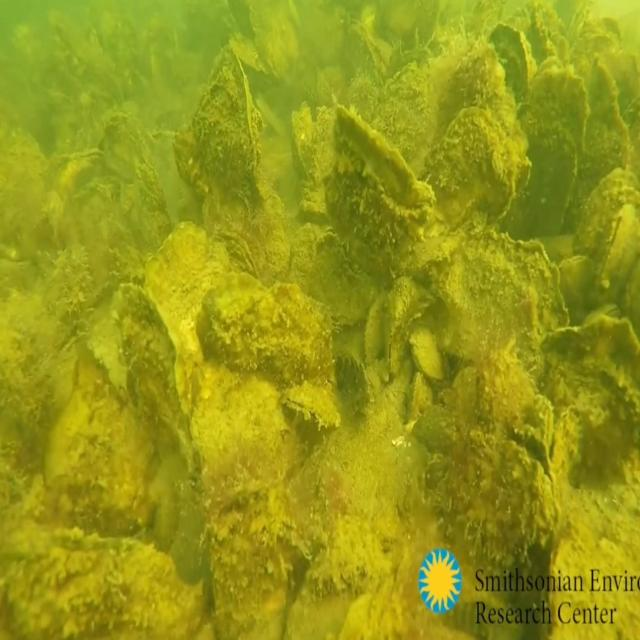Oyster-Closed: (186, 43, 267, 238), (115, 280, 191, 456), (384, 272, 419, 380), (282, 381, 338, 430), (408, 324, 446, 381), (315, 224, 346, 288), (559, 251, 593, 306)
Oyster-Indeterminate: (430, 228, 569, 362), (331, 101, 435, 267), (195, 268, 329, 368), (526, 66, 589, 242), (437, 106, 517, 228), (581, 164, 640, 307), (372, 61, 432, 184), (442, 43, 506, 144), (98, 111, 146, 214)
Oyster-Open: (436, 418, 560, 574), (290, 102, 332, 185)
